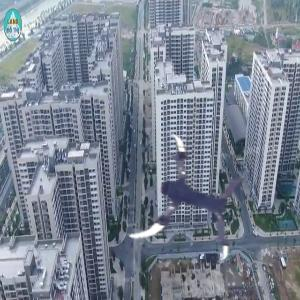drone: (118, 131, 249, 262)
